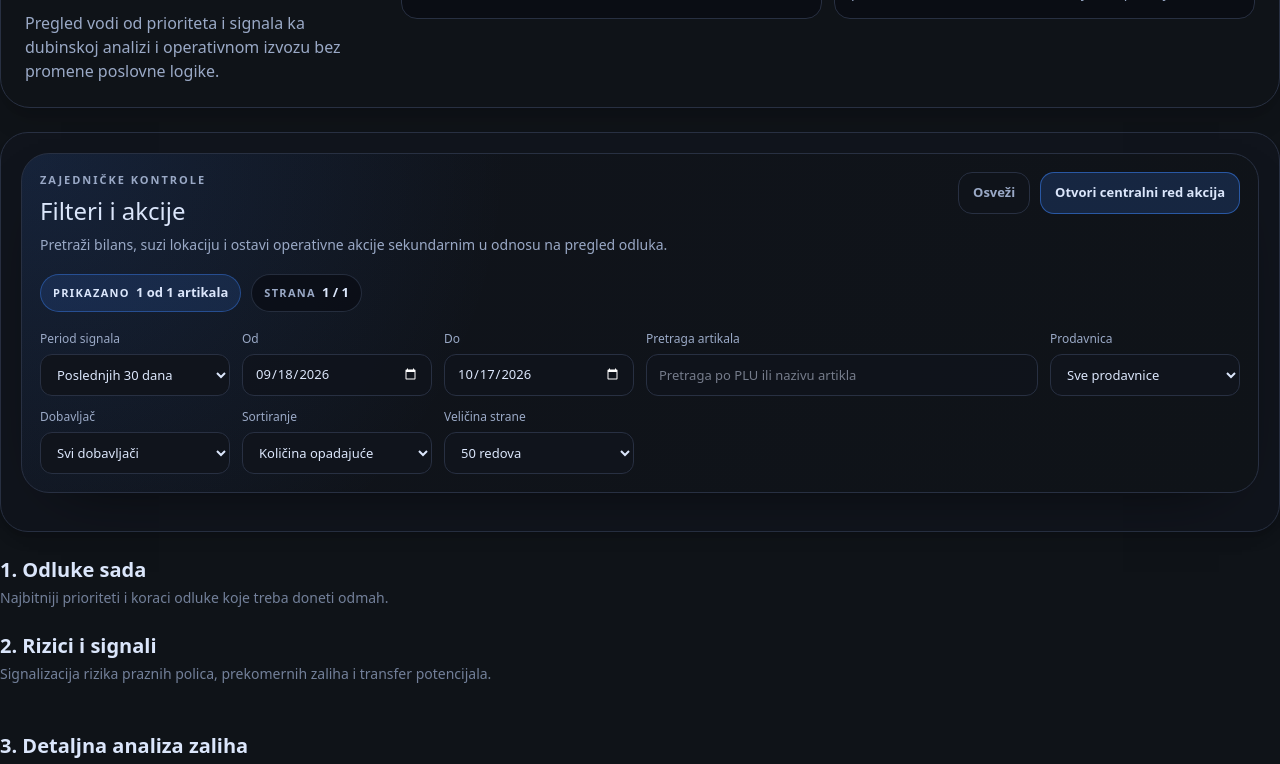
Test: InventoryPage insights error handling › clears stale aging counts when a later insights fetch fails
(page scrolled)
Type "novi" into the search field at (842, 375), box left=646, top=354, right=1038, bottom=396
(page scrolled)
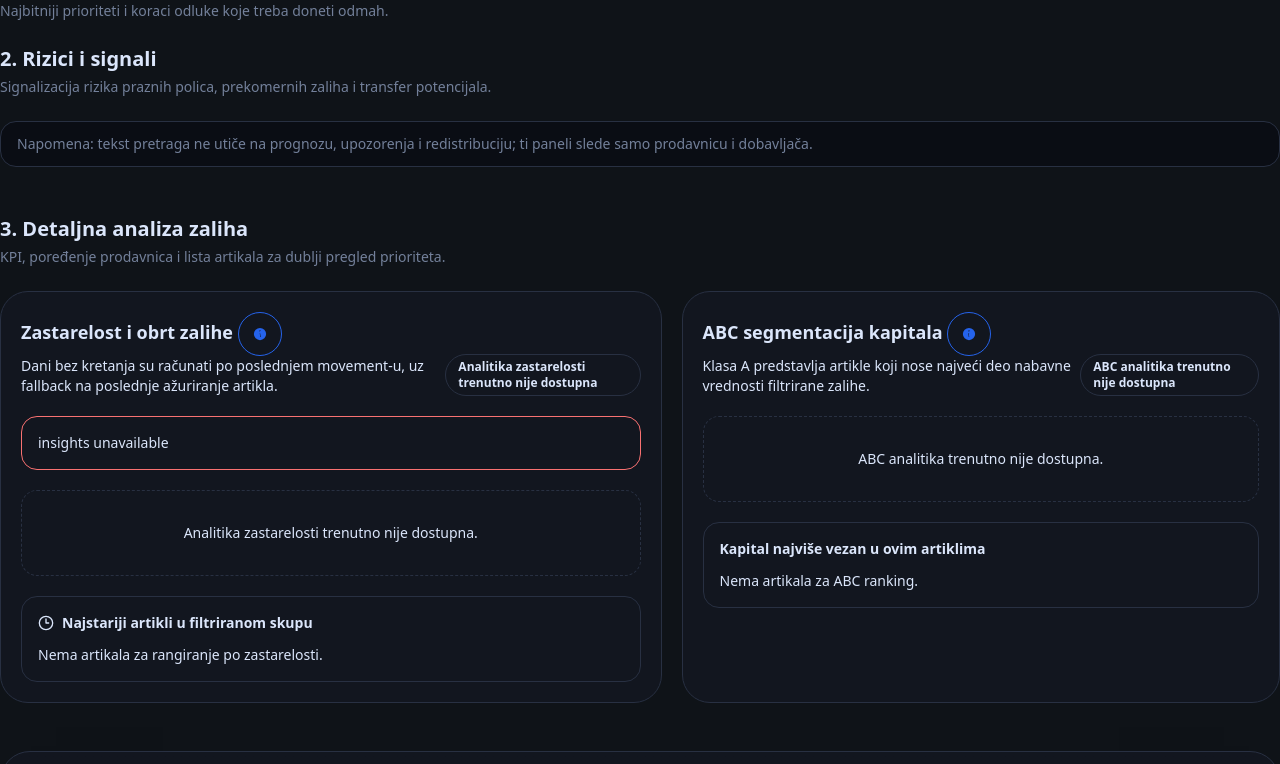
Expected: the message reads "insights unavailable", left=38, top=433, right=169, bottom=452
Expected: the text "Analitika zastarelosti trenutno nije dostupna" is shown, left=445, top=354, right=640, bottom=396
